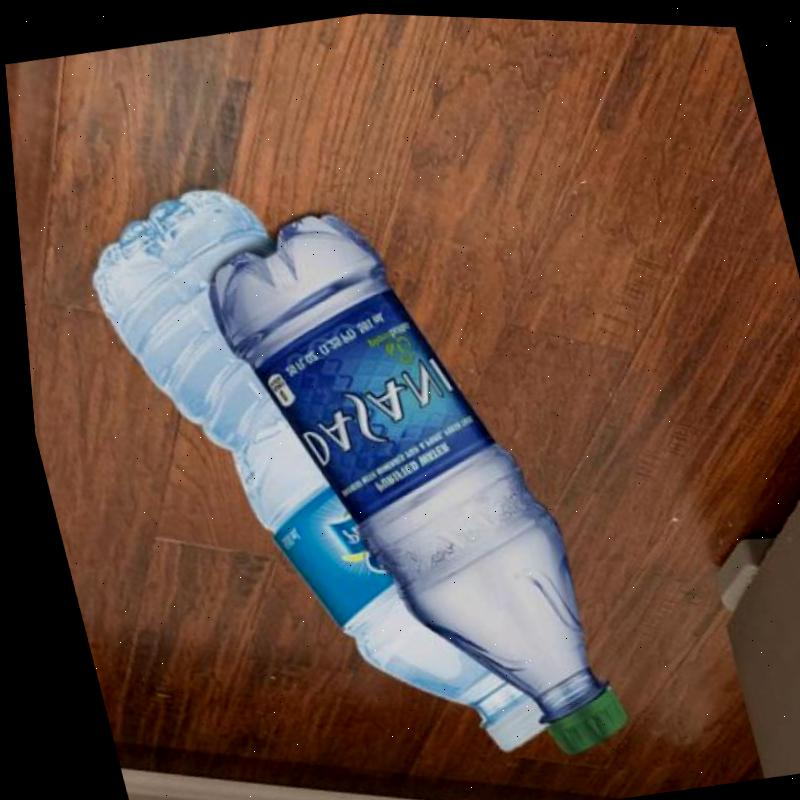botella: (63, 151, 545, 800), (186, 175, 630, 796)
